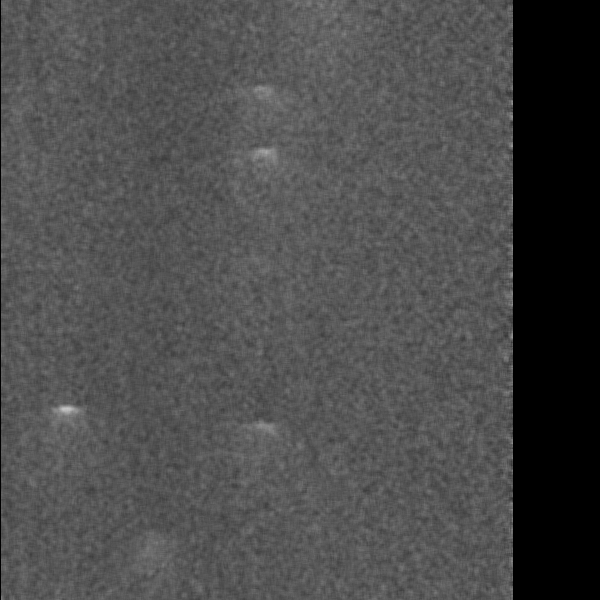spark: (244, 413, 285, 452), (242, 143, 285, 175), (245, 79, 284, 110), (49, 401, 86, 431)
